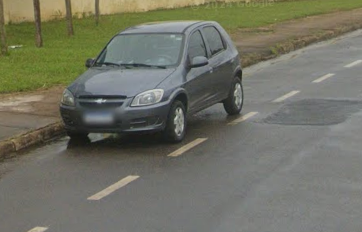car: (57, 17, 247, 149)
